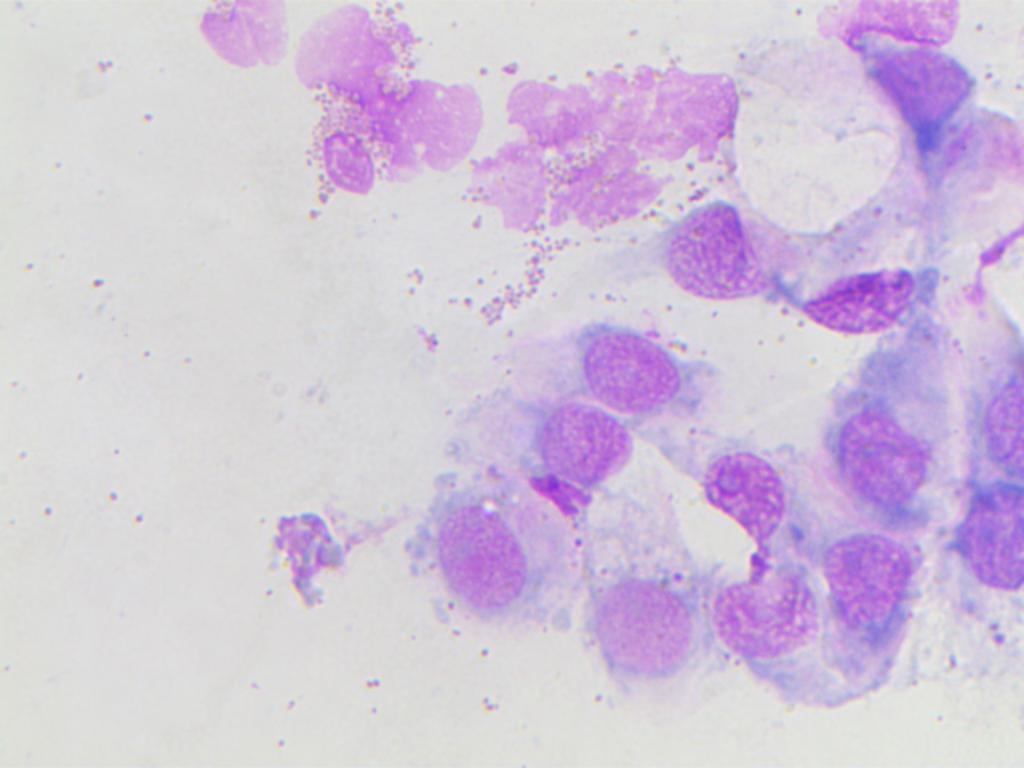eosinophil: (299, 43, 466, 216)
epithelial: (803, 257, 941, 340), (665, 201, 771, 302), (591, 571, 697, 671), (707, 574, 821, 662), (955, 468, 1024, 612), (435, 497, 527, 604), (820, 531, 913, 634), (835, 412, 929, 511), (699, 449, 787, 549), (534, 403, 632, 488), (579, 332, 680, 413)
